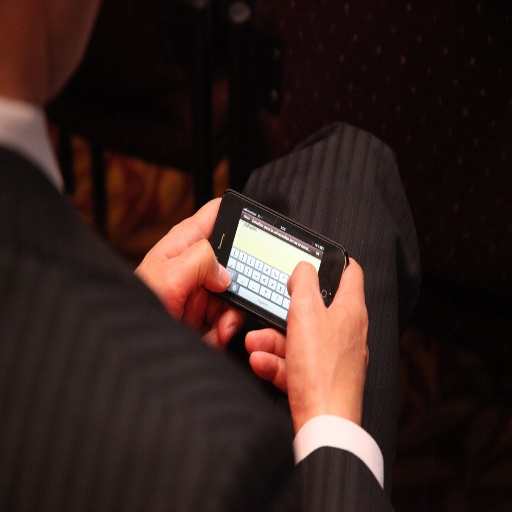hand: (241, 253, 371, 433), (145, 196, 228, 336)
